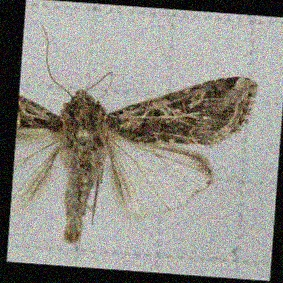Spodoptera litura: (16, 31, 254, 248)
